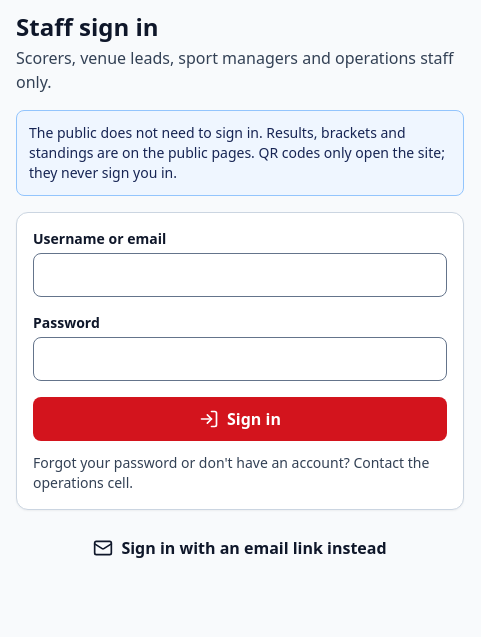
Test: SignIn › shows a plain message for wrong credentials
The width and height of the screenshot is (481, 637).
Type "scorer@example.test" into the field labelled "Username or email" at (240, 275), box top-left (33, 253), bottom-right (447, 297)
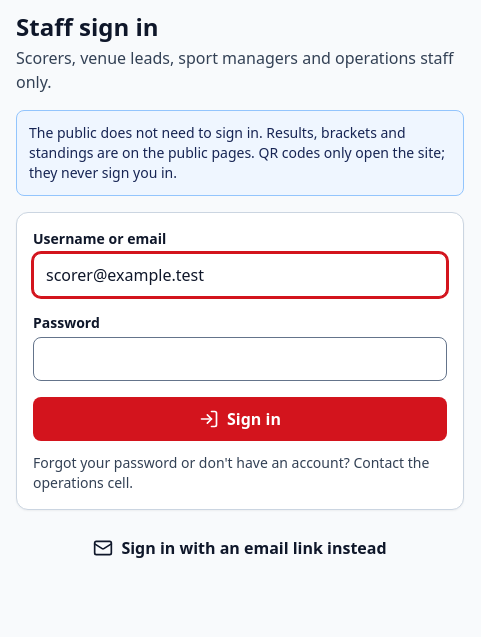
Type "nope" into the password field labelled "Password" at (240, 359), box top-left (33, 337), bottom-right (447, 381)
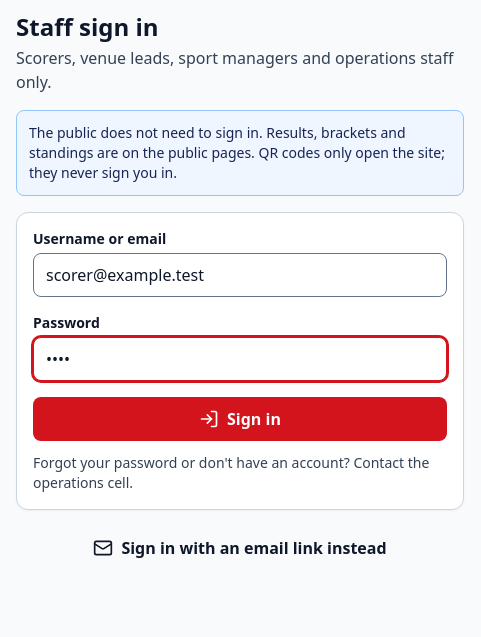
Click the button "Sign in" at (240, 419), box top-left (33, 397), bottom-right (447, 441)
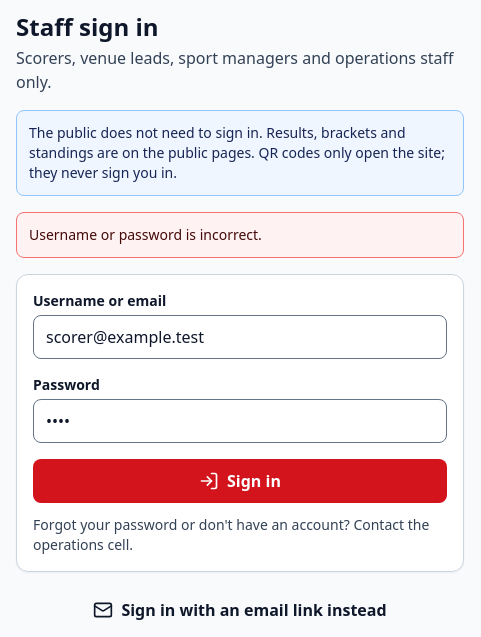
Result: the text "Username or password is incorrect." is shown at top-left (29, 225), bottom-right (262, 244)
